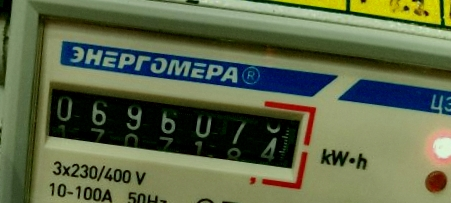0: (52, 91, 76, 124), (192, 108, 215, 140)
4: (257, 133, 279, 163)
6: (86, 95, 112, 128), (158, 105, 180, 135)
7: (227, 113, 248, 145)
9: (123, 101, 144, 132)
screen: (24, 61, 318, 189)
